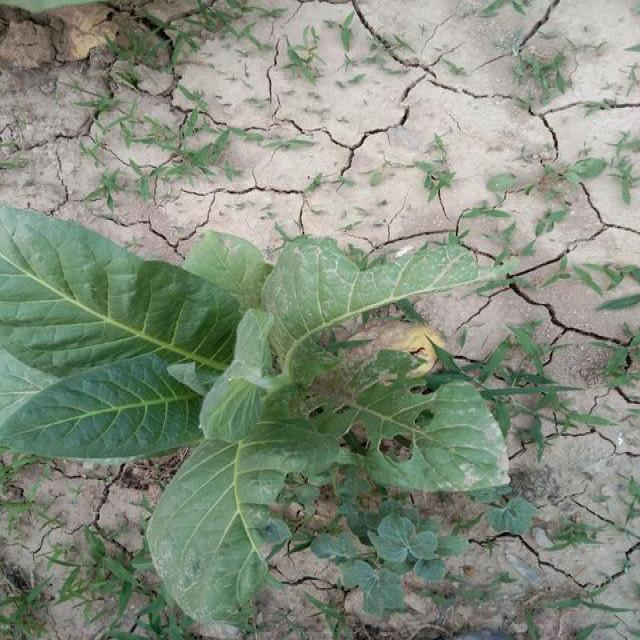crop: (2, 184, 541, 635)
